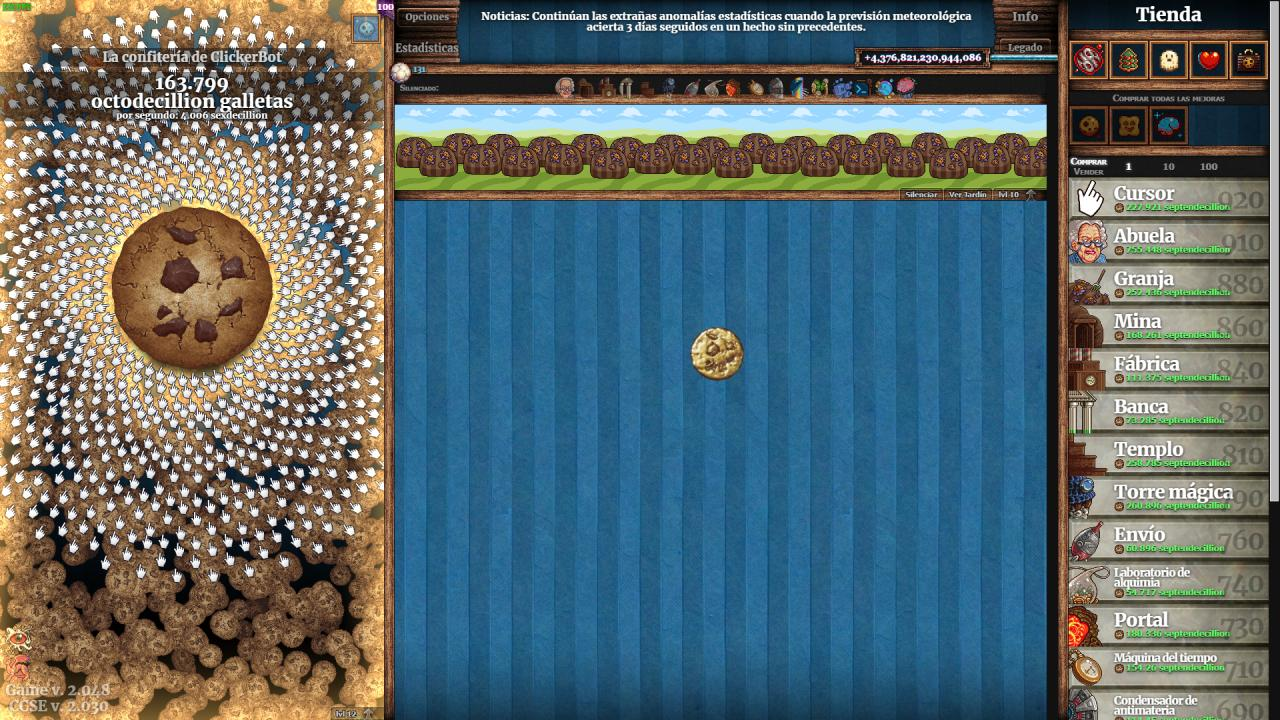GoldenCookie: (689, 326, 746, 383)
